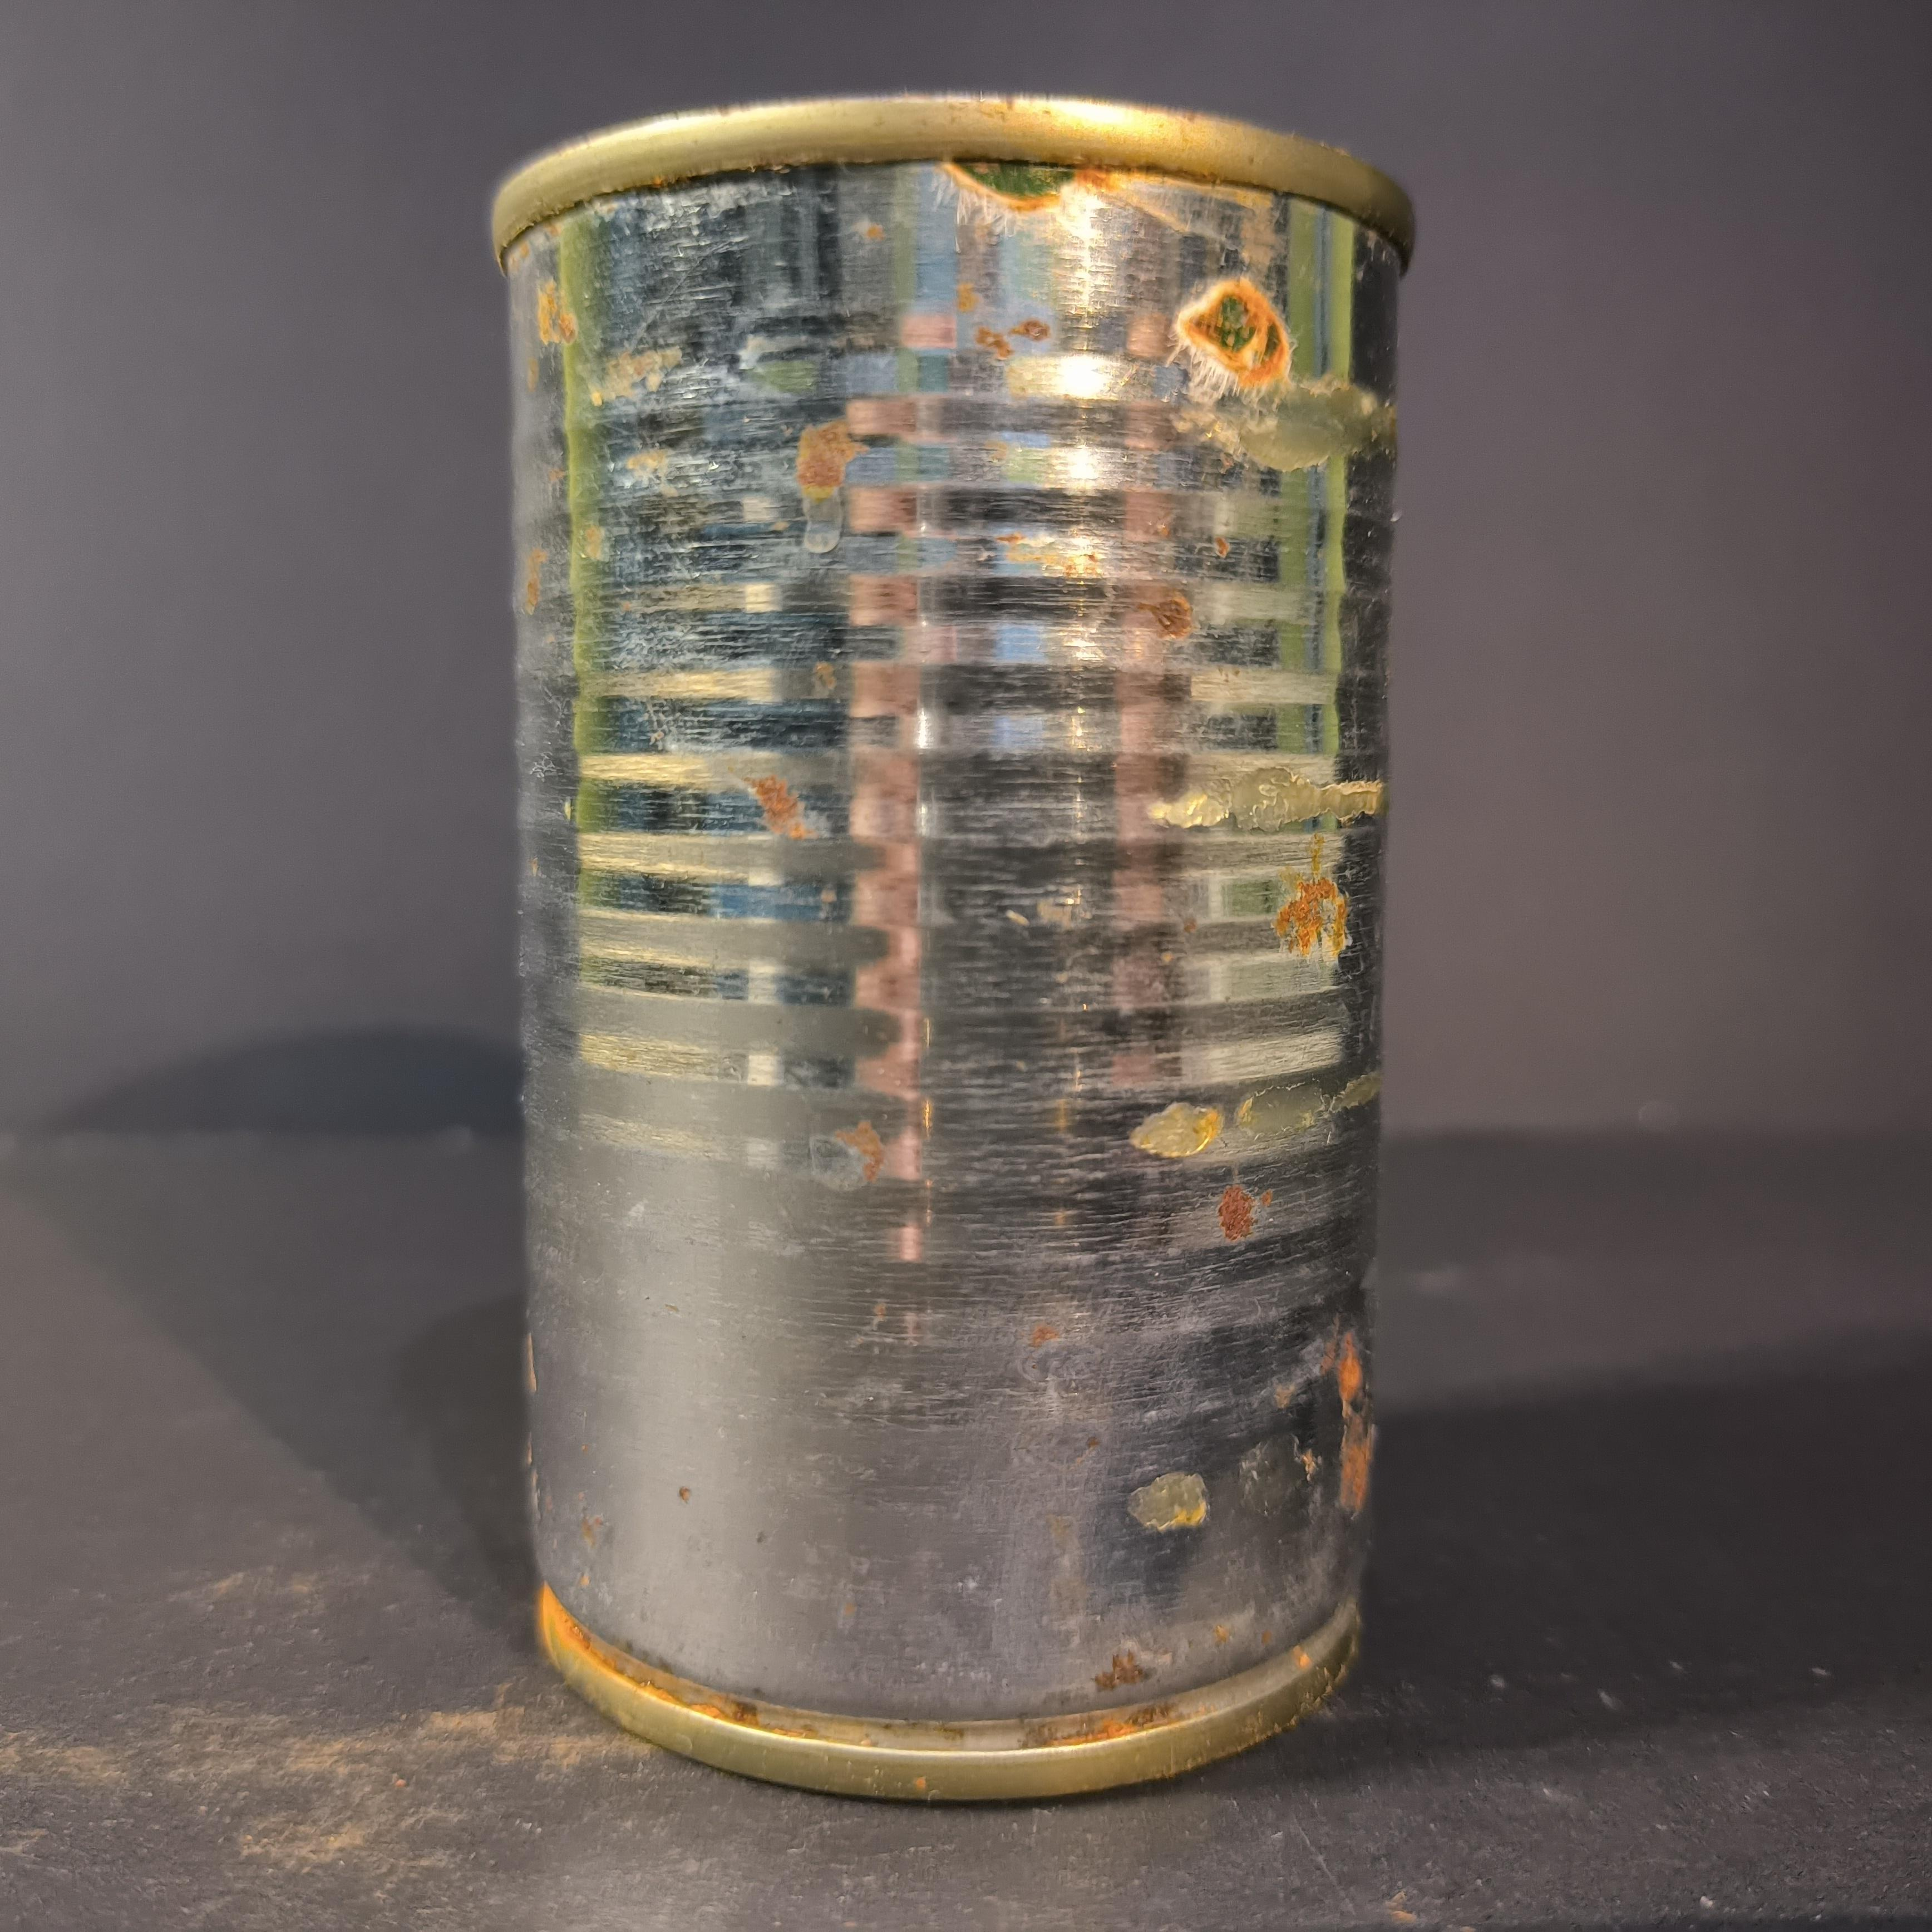Rusted: (476, 50, 1453, 1812)
